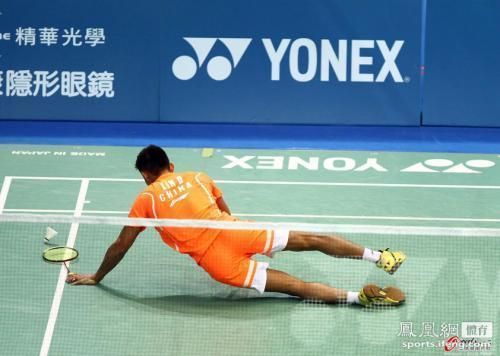Fall-Detected: (62, 137, 401, 317)
